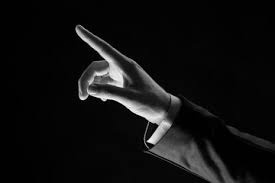pointing_gesture: (74, 23, 170, 120)
